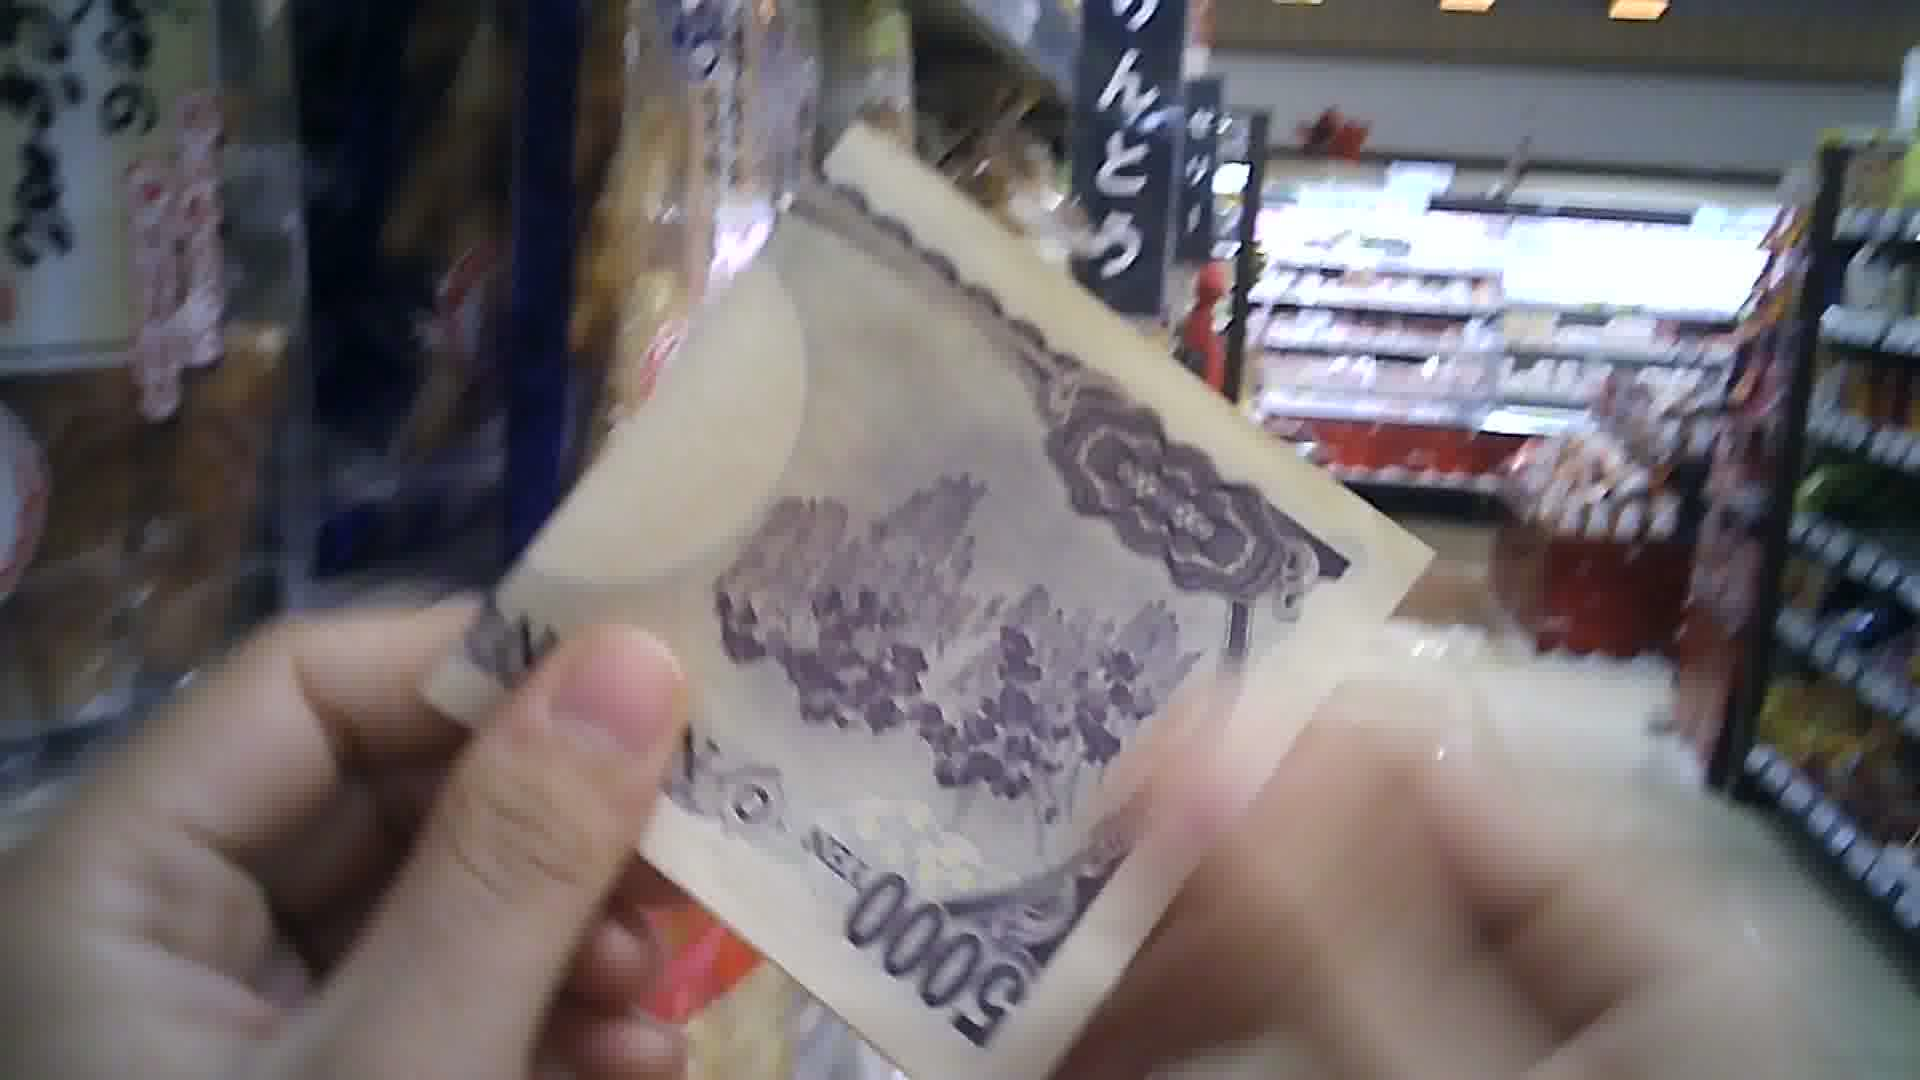5,000 Yen: (433, 84, 1429, 1072)
